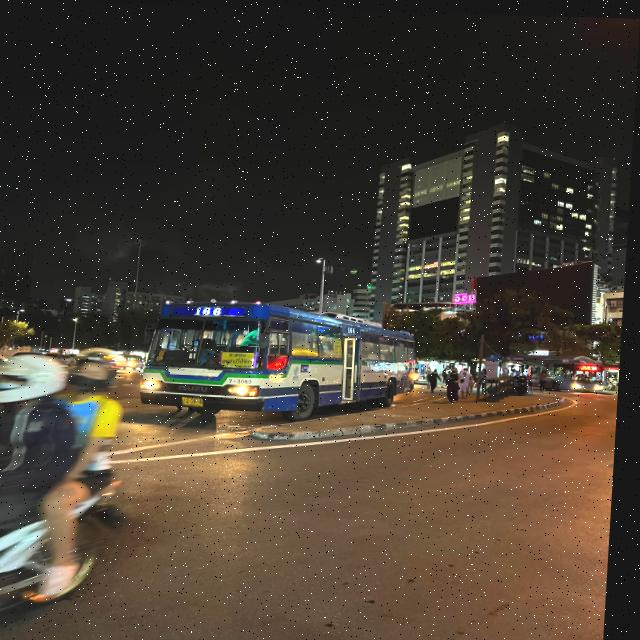BMTA-bus: (142, 295, 423, 423)
Bus-Line-Number: (192, 304, 230, 315)
Destination-Sign-Normal-Expressway: (225, 350, 259, 368)
